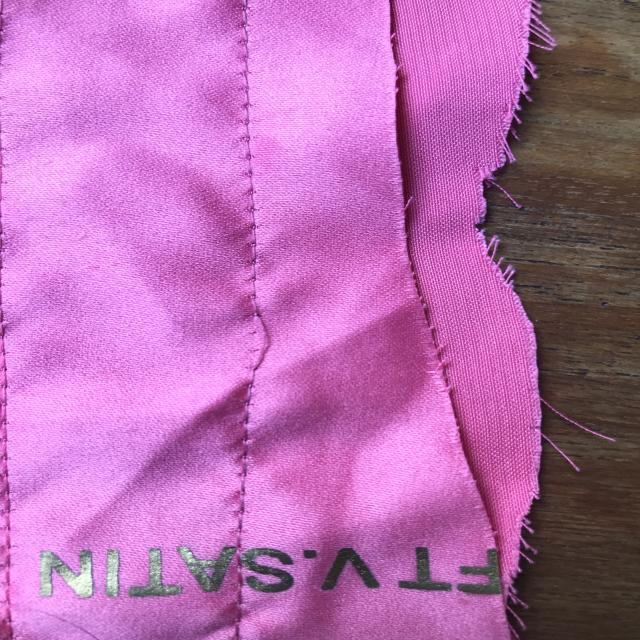skip: (238, 296, 284, 377)
